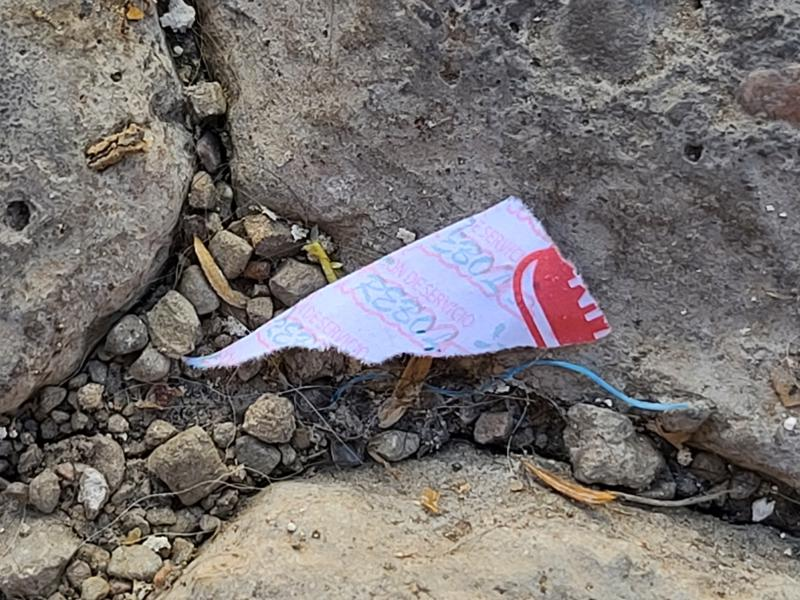papel: (187, 197, 612, 370)
